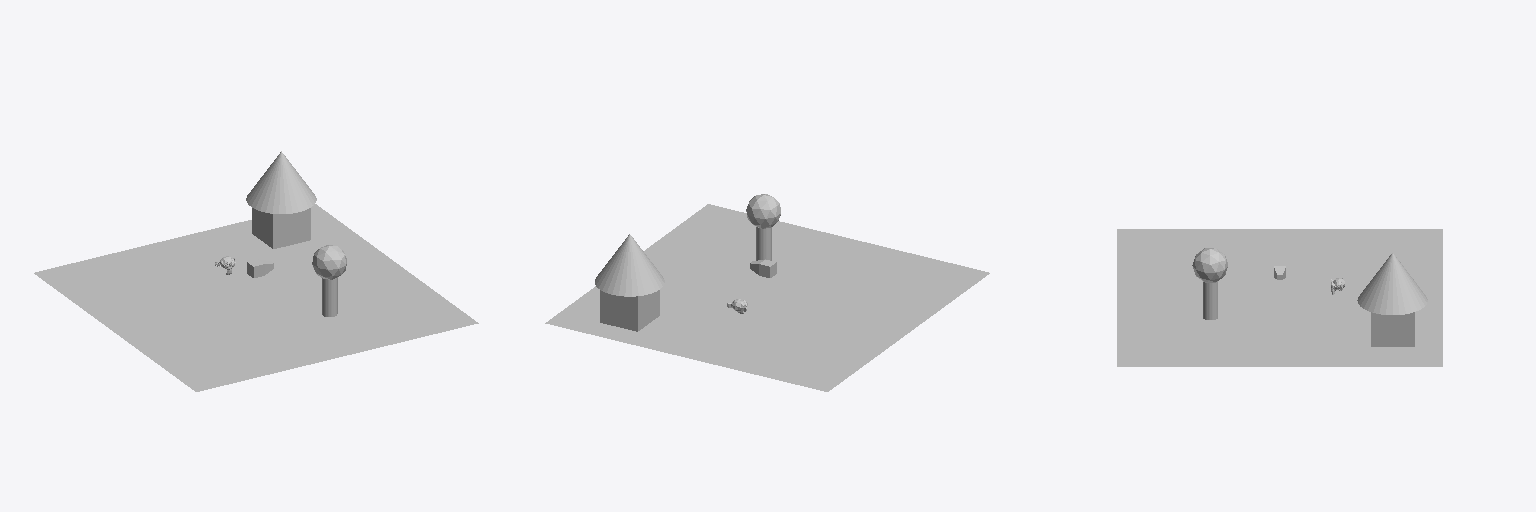
File: old_scene.obj
3 renders of one model, left to right at view 1: azimuth 30°, elevation 25°; view 2: azimuth 150°, elevation 25°; view 3: azimuth 270°, elevation 25°, orthographic.
Visible parts, largest first — view 1: Plane, Cone, Cube.001, Icosphere.001, Cylinder.001; view 2: Plane, Cone, Cube.001, Icosphere.001; view 3: Plane, Cone, Cube.001, Icosphere.001, Cylinder.001.
Part boxes in pixels (x1,y1,x2,y2): Plane: (34,204,478,391); Cone: (246,151,316,213); Cube.001: (252,208,310,248); Icosphere.001: (312,245,346,279); Cylinder.001: (322,277,337,316); Plane: (545,204,989,391); Cone: (595,234,664,296); Cube.001: (600,290,659,331); Icosphere.001: (746,194,780,228); Plane: (1117,229,1442,366); Cone: (1357,253,1427,314); Cube.001: (1371,312,1414,346); Icosphere.001: (1192,248,1227,282); Cylinder.001: (1203,281,1217,319).
Size of the model in its own units: 50.78 by 14.97 by 50.78.